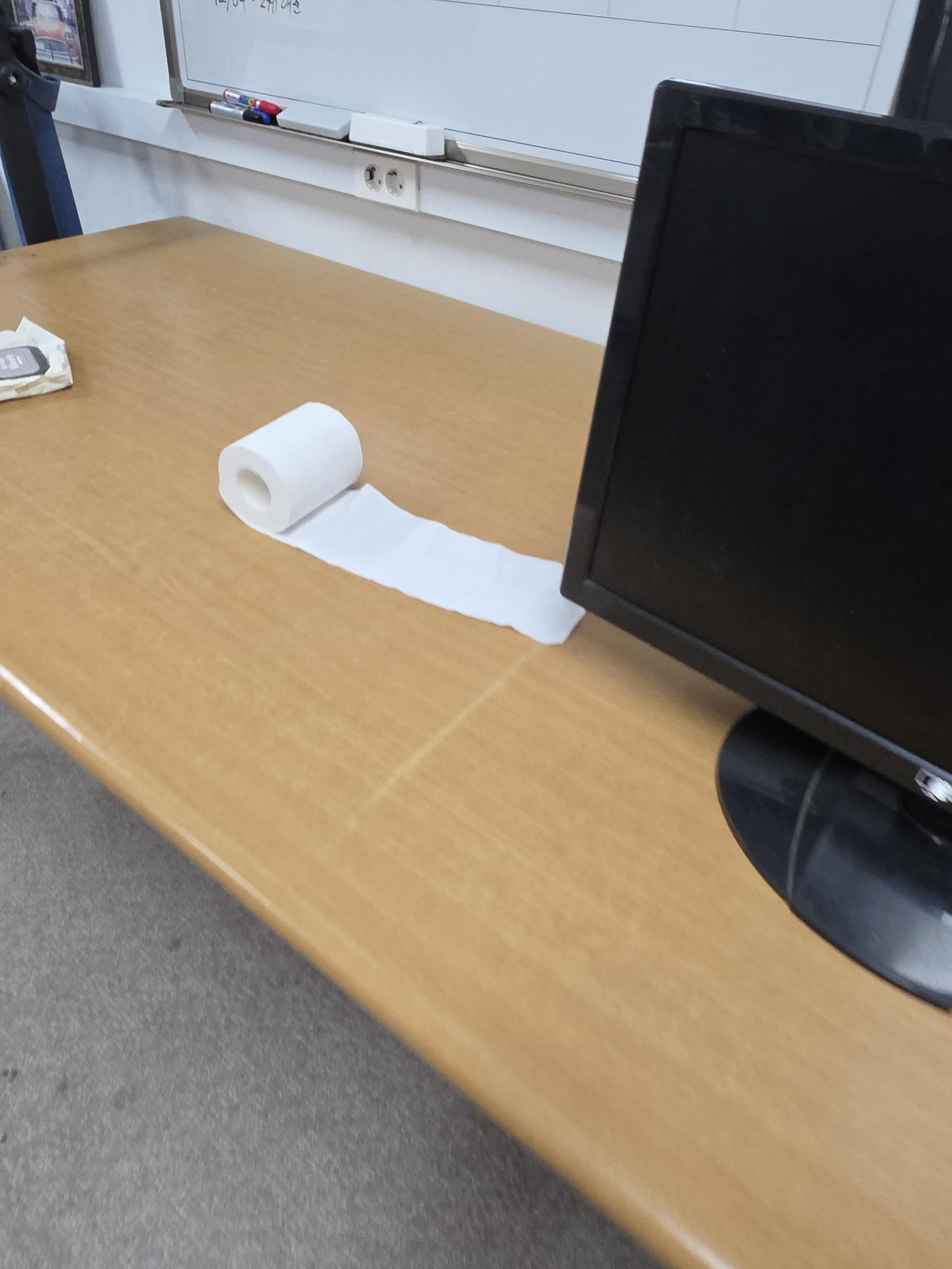tissue: (217, 402, 588, 646)
